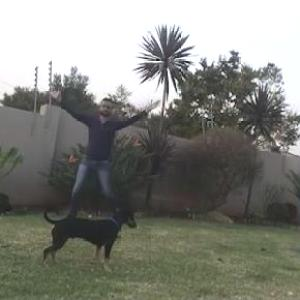takeoff: (46, 86, 160, 216)
